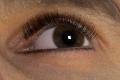eye: (53, 28, 84, 49)
